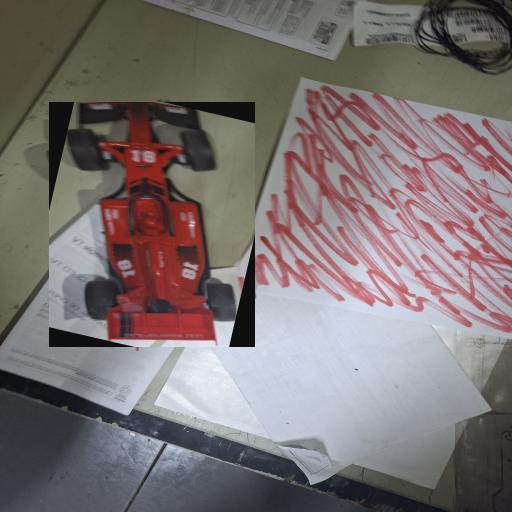carro: (49, 103, 254, 346)
